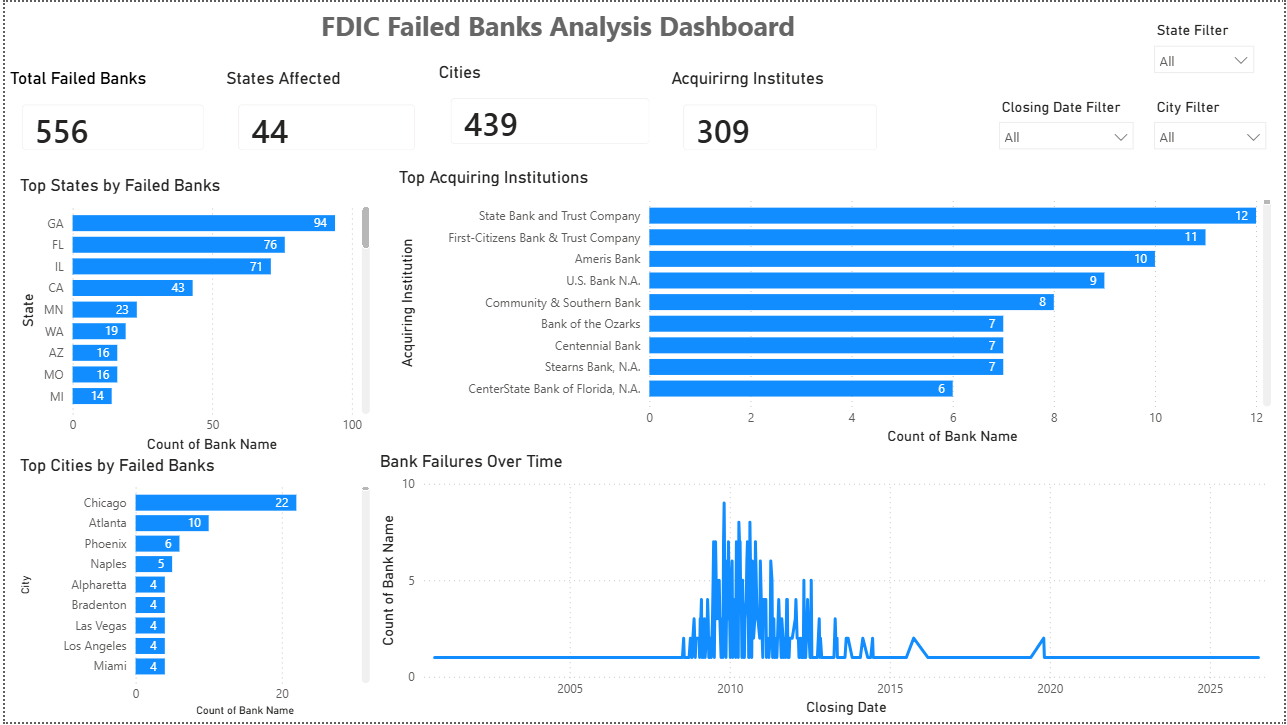

The page's visual inventory and layout, read from the dashboard file:
{"tool":"powerbi","page":{"name":"Page 1","canvas":[1280,720],"ordinal":0},"visuals":[{"type":"clusteredBarChart","title":"Top States by Failed Banks","fields":{"Category":["Failed banks.State"],"Y":["CountNonNull(Failed banks.Bank Name)"]},"box":[10,172.5,360,282.5],"z":0},{"type":"cardVisual","title":"Total Failed Banks","fields":{"Data":["Count(Failed banks.Bank Name)"]},"box":[0,66.7,216.7,100],"z":1000},{"type":"cardVisual","title":"States Affected","fields":{"Data":["Count(Failed banks.State)"]},"box":[216.7,66.7,211.7,100],"z":2000},{"type":"cardVisual","title":"Cities","fields":{"Data":["Count(Failed banks.City)"]},"box":[428.3,60,233.3,100],"z":3000},{"type":"cardVisual","title":"Acquirirng Institutes","fields":{"Data":["Count(Failed banks.Acquiring Institution)"]},"box":[661.7,66.7,228.3,100],"z":4000},{"type":"lineChart","title":"Bank Failures Over Time","fields":{"Category":["Failed banks.Closing Date.Variation.Date Hierarchy.Year"],"Y":["CountNonNull(Failed banks.Bank Name)"]},"box":[370,448.3,901.7,270],"z":5000},{"type":"textbox","box":[21.7,0,1063.3,48.3],"z":6000},{"type":"slicer","title":"Top Acquiring Institutions","fields":{"Values":["Failed banks.State"]},"box":[1138.3,15,120,66.7],"z":7000},{"type":"slicer","fields":{"Values":["Failed banks.Closing Date"]},"box":[983.3,91.7,155,70],"z":7001},{"type":"slicer","fields":{"Values":["Failed banks.City"]},"box":[1138.8,91.2,132.5,72.5],"z":7002},{"type":"clusteredBarChart","title":"Top Acquiring Institutions","fields":{"Category":["Failed banks.Acquiring Institution"],"Y":["CountNonNull(Failed banks.Bank Name)"]},"box":[388.8,165,882.5,282.5],"z":7003},{"type":"clusteredBarChart","title":"Top Cities by Failed Banks","fields":{"Category":["Failed banks.City"],"Y":["CountNonNull(Failed banks.Bank Name)"]},"box":[10,452.5,360,267.5],"z":7004}]}

Visuals, with their boxes in screenshot pixels (x1, y1, x2, y2), scaled from the page's 1280x720 canvas onto the 1287x725 screenshot:
"Top States by Failed Banks" clusteredBarChart: left=10, top=174, right=372, bottom=458
"Total Failed Banks" cardVisual: left=0, top=67, right=218, bottom=168
"States Affected" cardVisual: left=218, top=67, right=431, bottom=168
"Cities" cardVisual: left=431, top=60, right=665, bottom=161
"Acquirirng Institutes" cardVisual: left=665, top=67, right=895, bottom=168
"Bank Failures Over Time" lineChart: left=372, top=451, right=1279, bottom=723
textbox: left=22, top=0, right=1091, bottom=49
"Top Acquiring Institutions" slicer: left=1145, top=15, right=1265, bottom=82
slicer - Failed banks.Closing Date: left=989, top=92, right=1145, bottom=163
slicer - Failed banks.City: left=1145, top=92, right=1278, bottom=165
"Top Acquiring Institutions" clusteredBarChart: left=391, top=166, right=1278, bottom=451
"Top Cities by Failed Banks" clusteredBarChart: left=10, top=456, right=372, bottom=724
